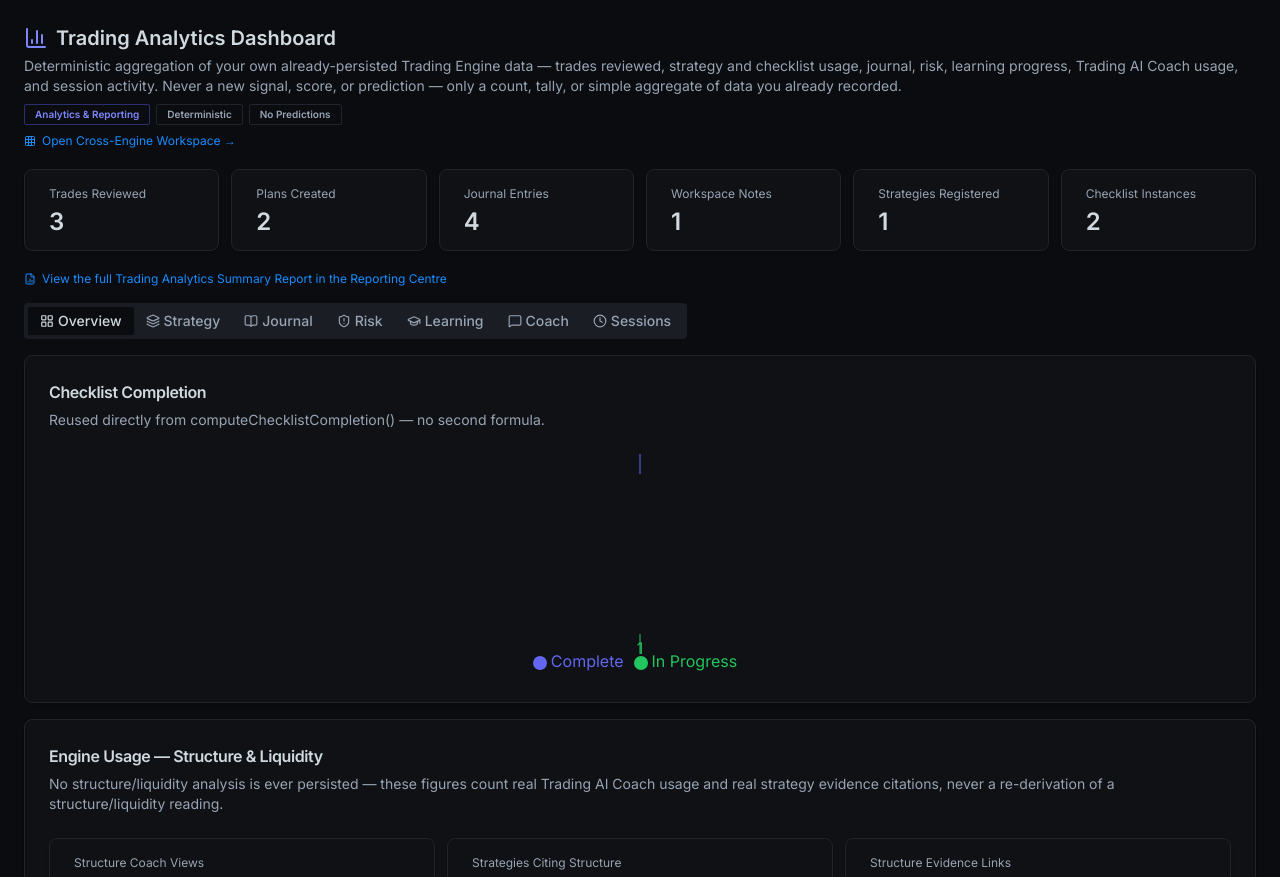
Test case: TradingAnalyticsDashboard page › Coach tab shows real coach-usage-by-type chart and most-recent-coach info
Click the tab with test id "tab-coach-analytics" at (538, 321), box x1=496 y1=307 x2=581 y2=335
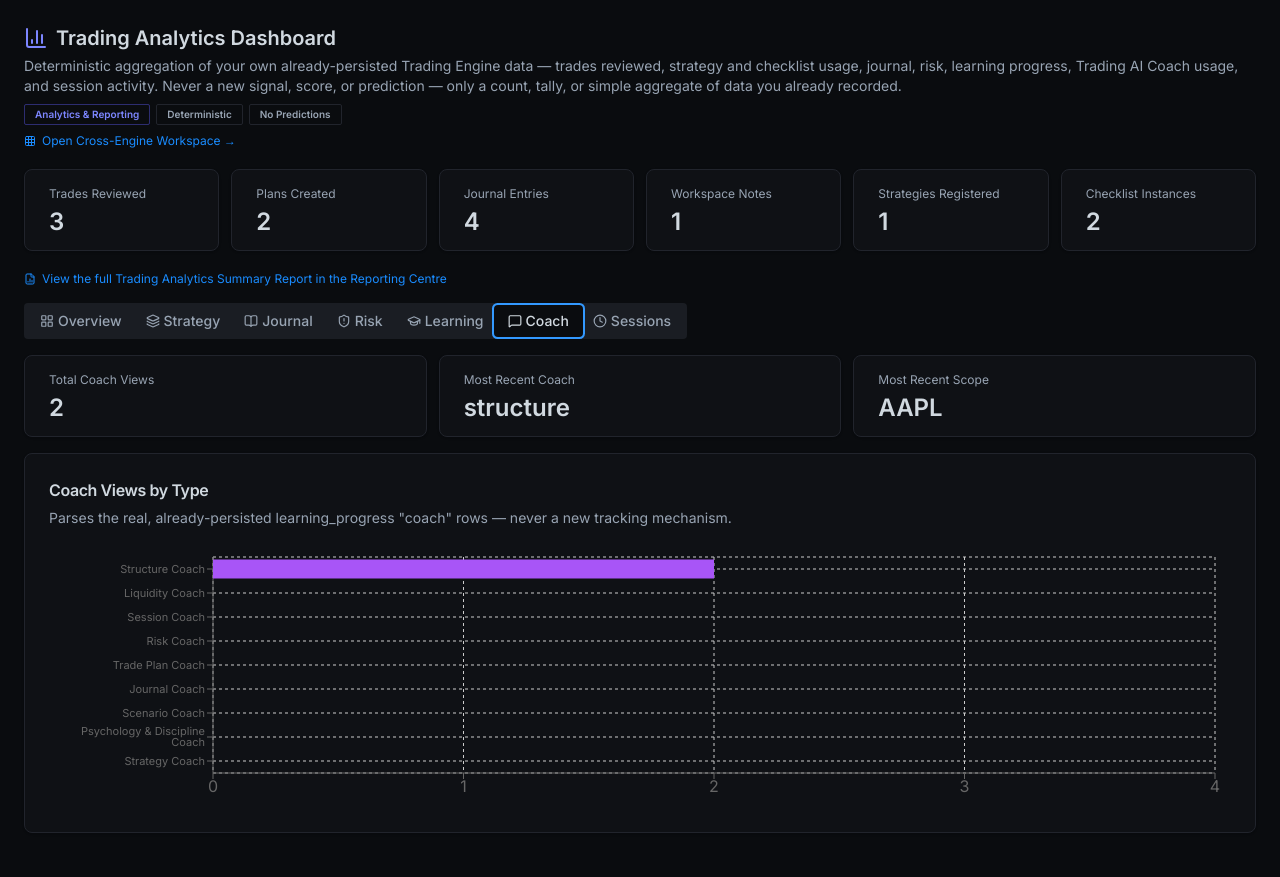
Expected: the element with test id "kpi-most-recent-coach" shows "structure", x1=464 y1=393 x2=570 y2=422
Expected: the element with test id "chart-coach-views" is shown, x1=49 y1=552 x2=1231 y2=808
